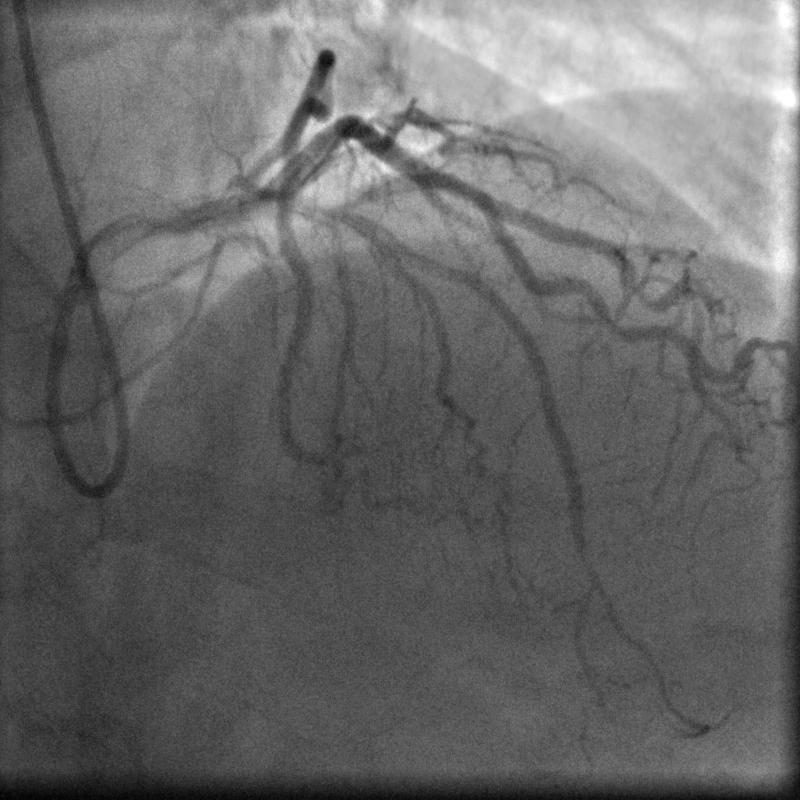Stenosis: (445, 172, 487, 207)
